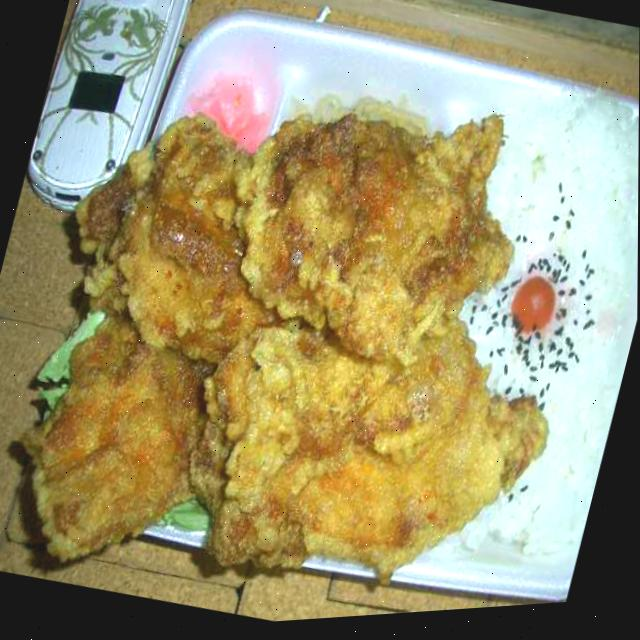鸡肉料理 含炸鸡: (0, 24, 606, 640)
